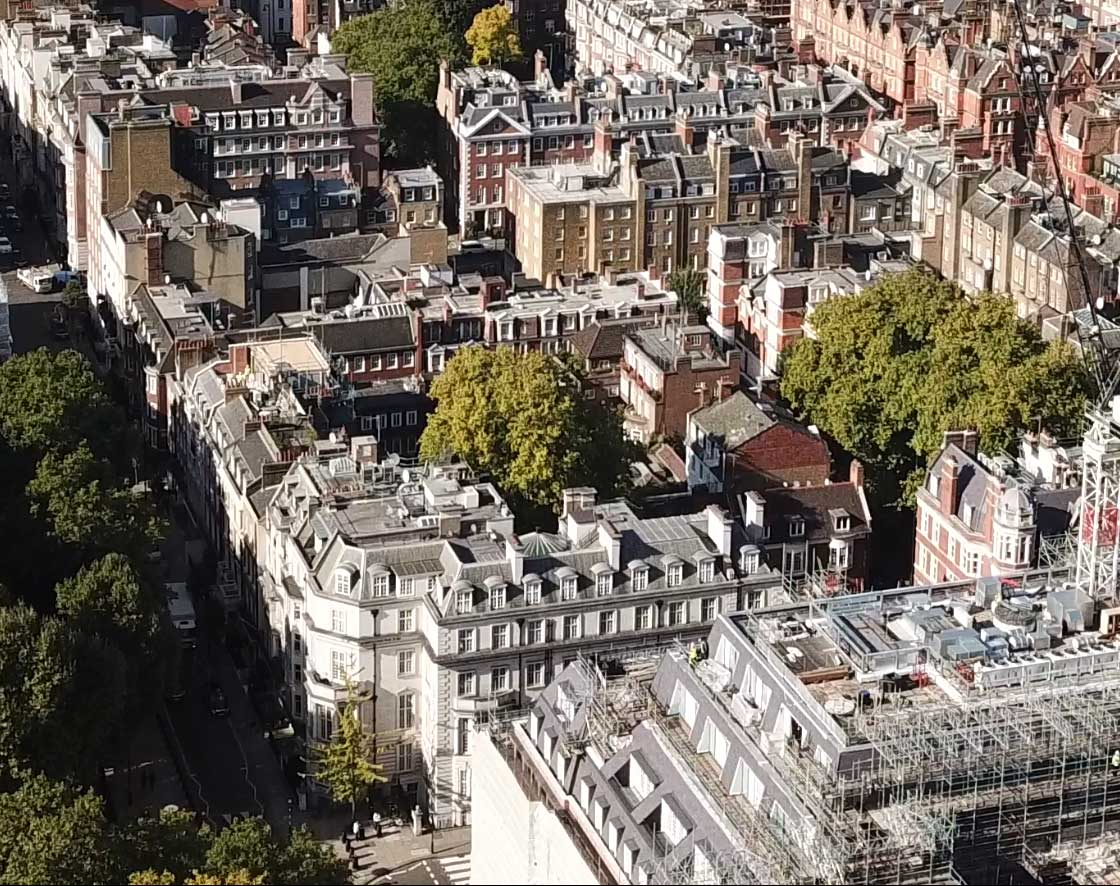tree: (789, 271, 1085, 454), (3, 355, 172, 667), (415, 343, 636, 512)
